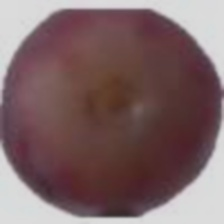grapes: (20, 47, 178, 182)
